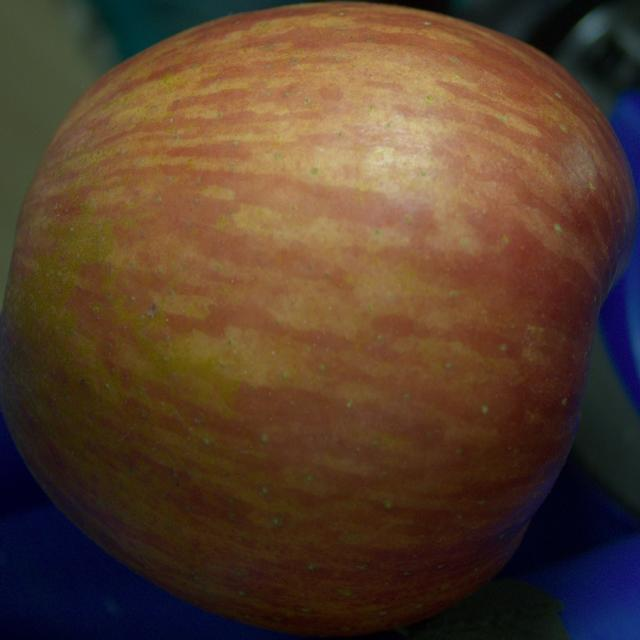apple: (0, 2, 636, 636)
